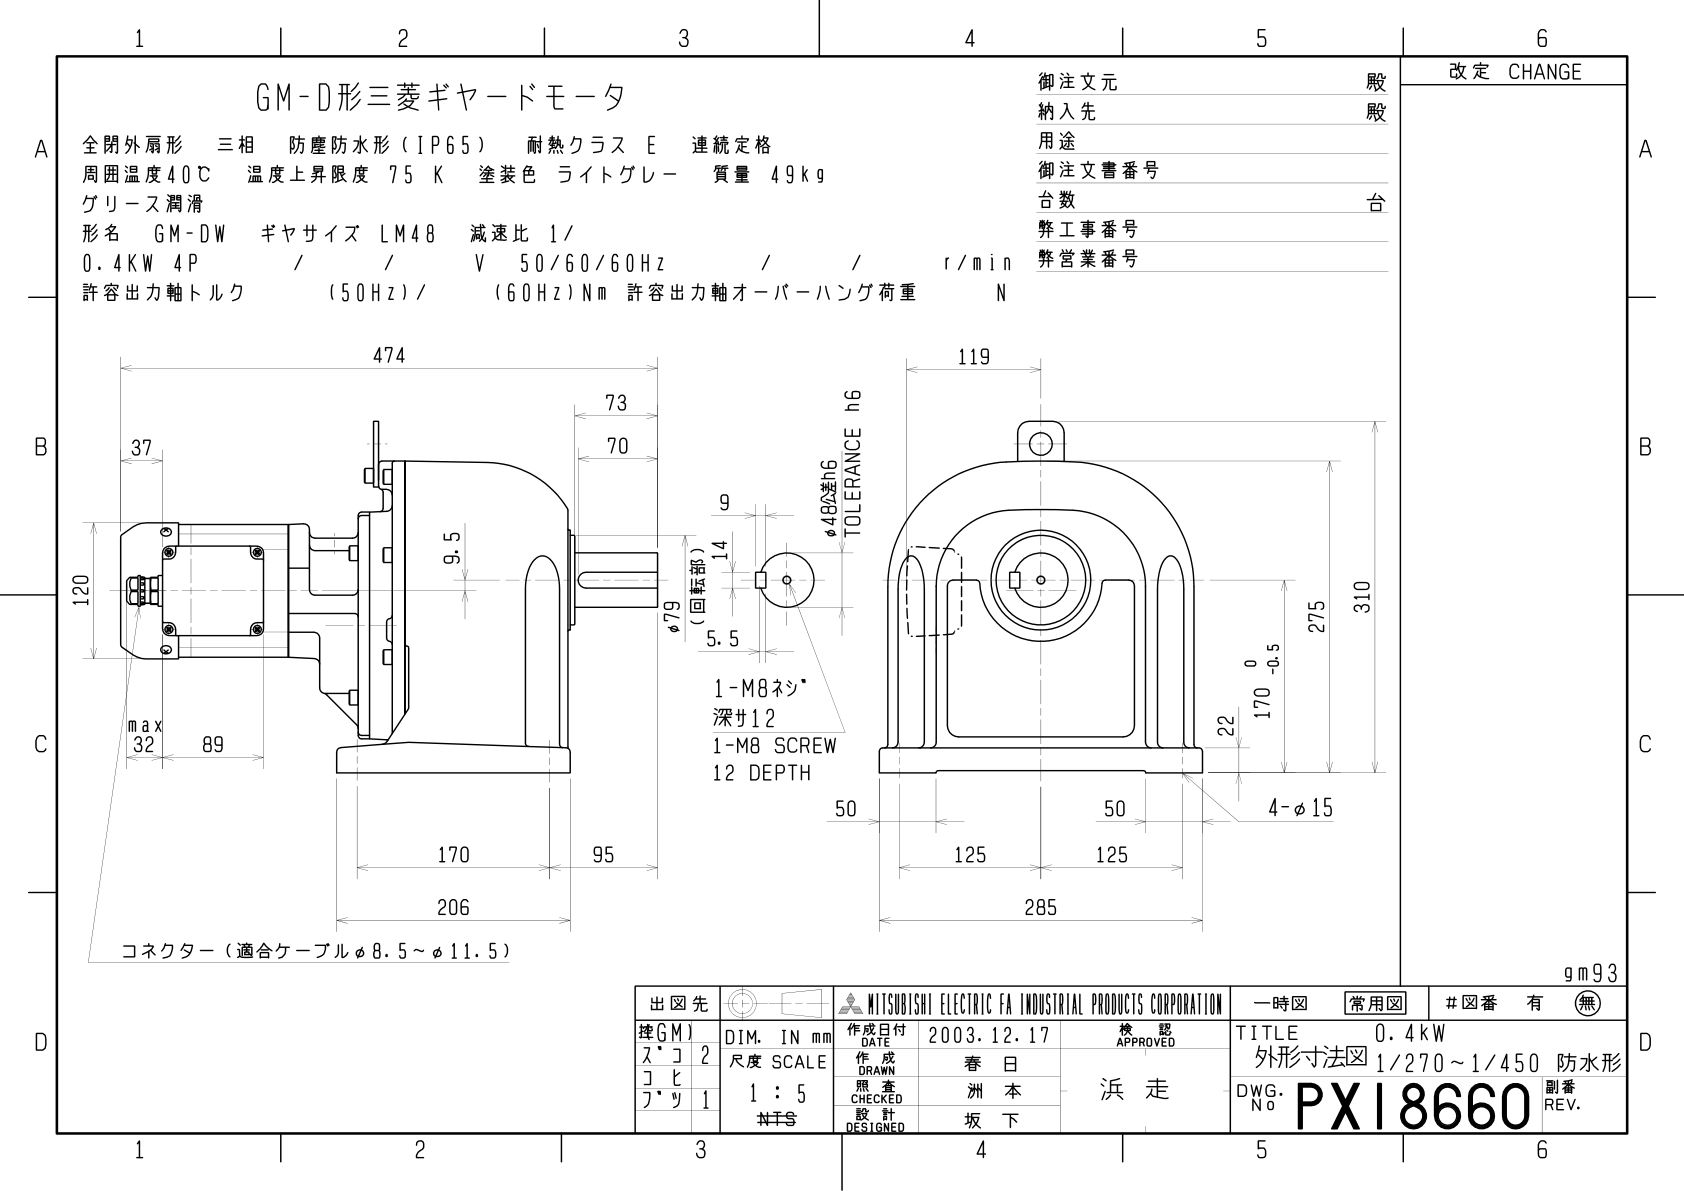GM_D_IP65_三相_脚: (58, 322, 1395, 971)
